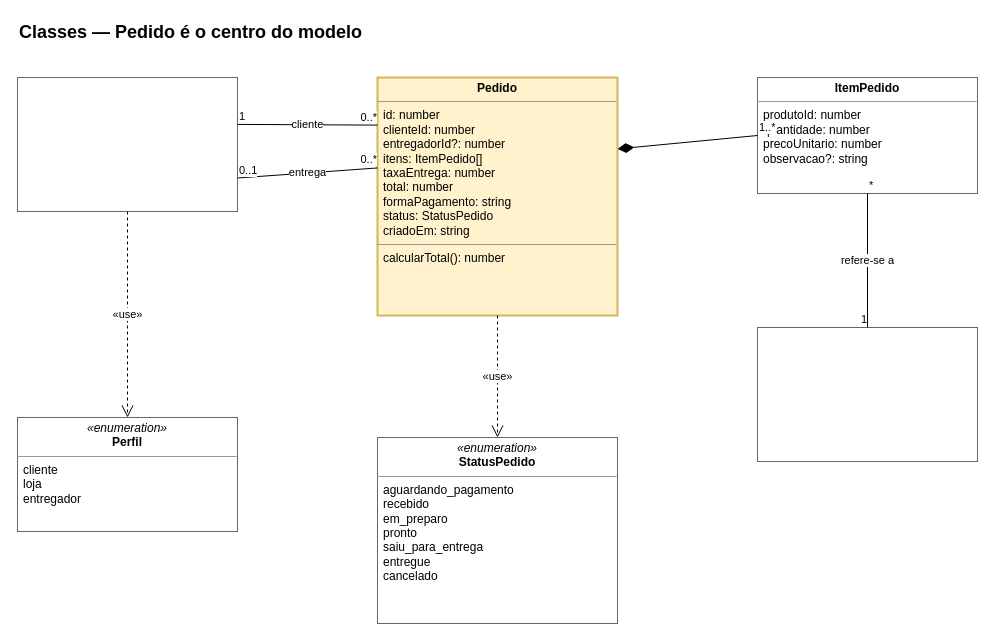
Image size: 995x641. Some labels were removed from this diagram. The box of each missing label's shape, as (x1, y1, x2, y2) in pixels:
Produto id: number nome: string categoria: string preco: number ativo: boolean: (756, 326, 978, 462)
Usuario id: number nome: string email: string senhaHash: string perfil: Perfil: (16, 76, 238, 212)
